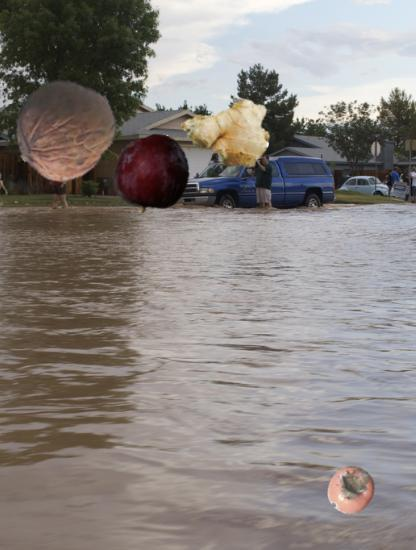Ginger: (181, 85, 272, 176)
Kaki: (326, 465, 377, 516)
Plum: (111, 132, 194, 215)
Walnut: (13, 77, 117, 181)
